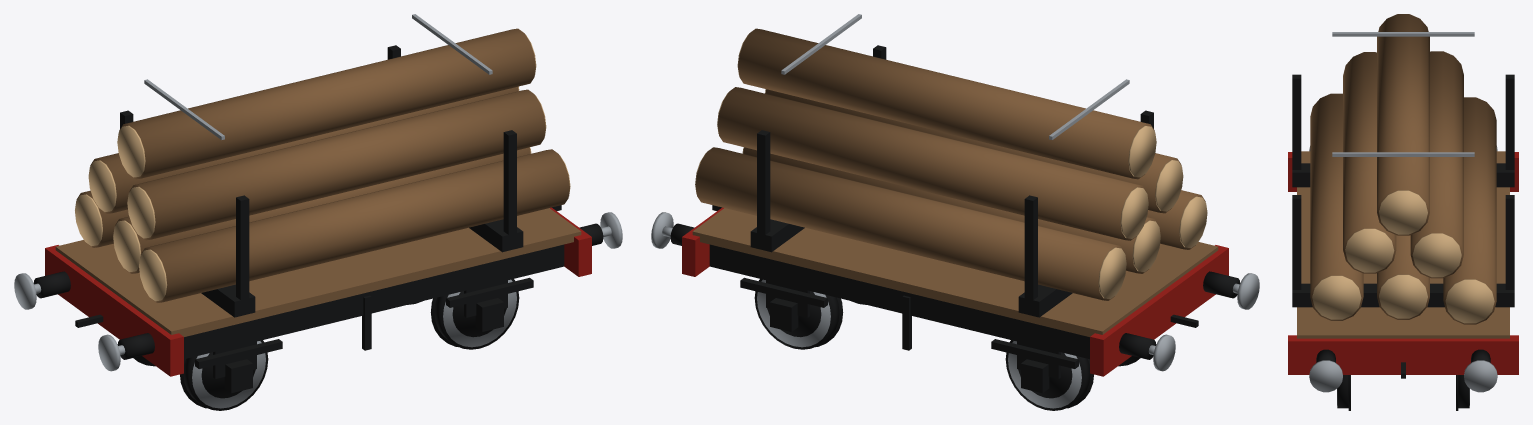
File: wood_truck.glb
3 views of the same model, side by side, from view 1: azimuth 30°, elevation 25°; view 2: azimuth 150°, elevation 25°; view 3: azimuth 270°, elevation 25° (orthographic). The views are drawn at different scales.
Visible parts, largest first — view 1: tora5, tora3, tora0, assoalho, longarina.001, viga.001, tora4, tora1, fueiro.001, fueiro.003, roda_face-1.001, roda_face-1 (+26 smaller); view 2: tora4, tora5, tora2, assoalho, longarina, viga.001, tora1, tora3, fueiro, fueiro.002, roda_face1.001, roda_face1 (+26 smaller); view 3: tora5, assoalho, viga, tora0, tora4, tora2, tora3, tora_topo0, tora_topo2, tora_topo1, tora_topo3, tora_topo5 (+15 smaller).
Part boxes in pixels (x1,y1,x2,y2): tora5: (119, 28, 535, 179); tora3: (129, 89, 545, 240); tora0: (140, 149, 569, 302); assoalho: (55, 208, 581, 336); longarina.001: (184, 244, 564, 359); viga.001: (45, 245, 183, 376); tora4: (90, 86, 518, 213); tora1: (115, 147, 530, 273); fueiro.001: (503, 130, 516, 244); fueiro.003: (236, 195, 249, 309); roda_face-1.001: (192, 341, 265, 408); roda_face-1: (443, 279, 516, 347); tora4: (717, 87, 1146, 240); tora5: (738, 28, 1154, 179); tora2: (695, 147, 1124, 300); assoalho: (692, 208, 1218, 336); longarina: (709, 245, 1089, 359); viga.001: (1090, 245, 1228, 376); tora1: (743, 147, 1158, 273); tora3: (765, 89, 1181, 213); fueiro: (757, 130, 770, 244); fueiro.002: (1024, 195, 1037, 309); roda_face1.001: (1008, 341, 1081, 408); roda_face1: (757, 279, 830, 347); tora5: (1377, 14, 1429, 235); assoalho: (1297, 151, 1509, 338); viga: (1288, 335, 1518, 374); tora0: (1310, 93, 1363, 320); tora4: (1410, 51, 1463, 278); tora2: (1443, 97, 1496, 324); tora3: (1343, 52, 1396, 273); tora_topo0: (1312, 275, 1361, 319); tora_topo2: (1445, 279, 1494, 323); tora_topo1: (1379, 274, 1427, 318); tora_topo3: (1345, 228, 1394, 272); tora_topo5: (1379, 190, 1427, 234).
Bounding box in the file's own units: 6.05 × 3.2 × 2.6.
